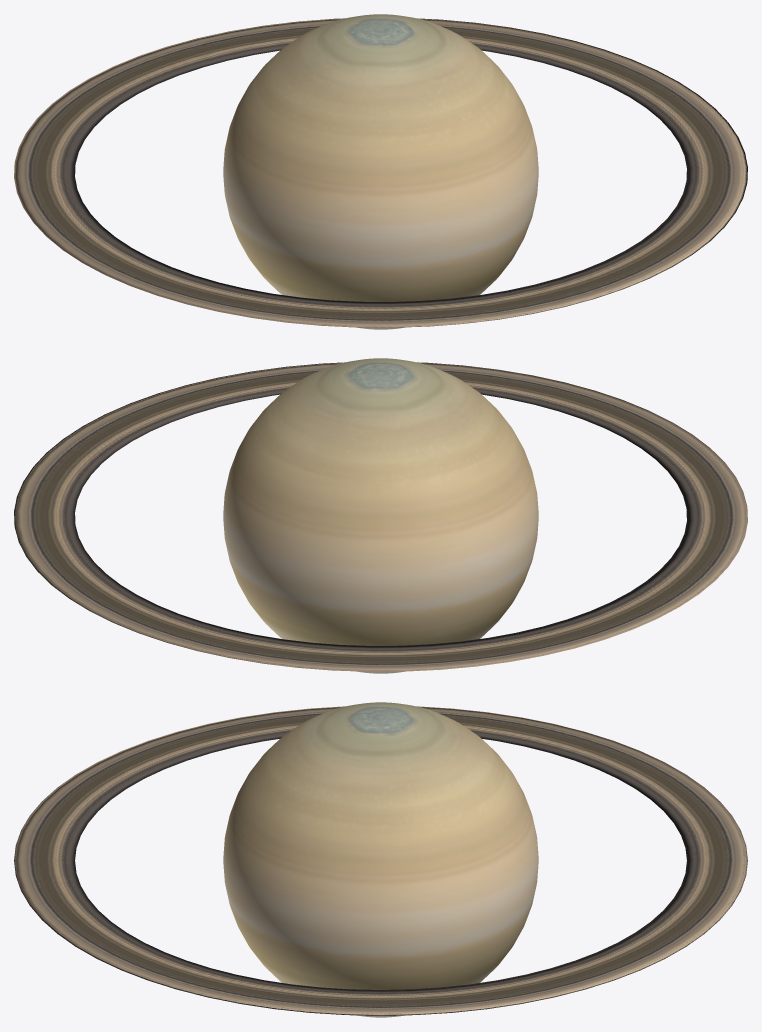
The model's file is saturn.glb.
3 renders of one model, top to bottom at view 1: azimuth 30°, elevation 25°; view 2: azimuth 150°, elevation 25°; view 3: azimuth 270°, elevation 25°, orthographic.
Visible parts, largest first — view 1: saturn; view 2: saturn; view 3: saturn.
Boxes of the visible parts, x1,y1,x2,y2 form: saturn: [14, 14, 747, 329]; saturn: [14, 358, 747, 673]; saturn: [14, 702, 747, 1017].
Bounding box in the file's own units: 4.65 × 2 × 4.65.
1 material, 1 textured.
